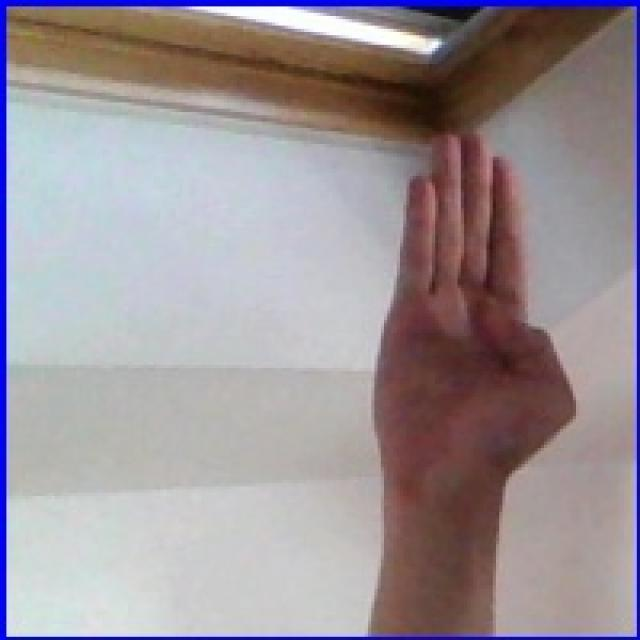Letra B: (346, 102, 582, 522)
